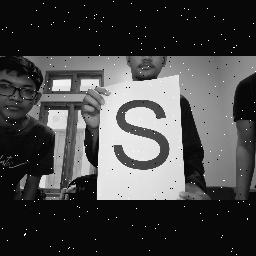s: (106, 98, 170, 176)
